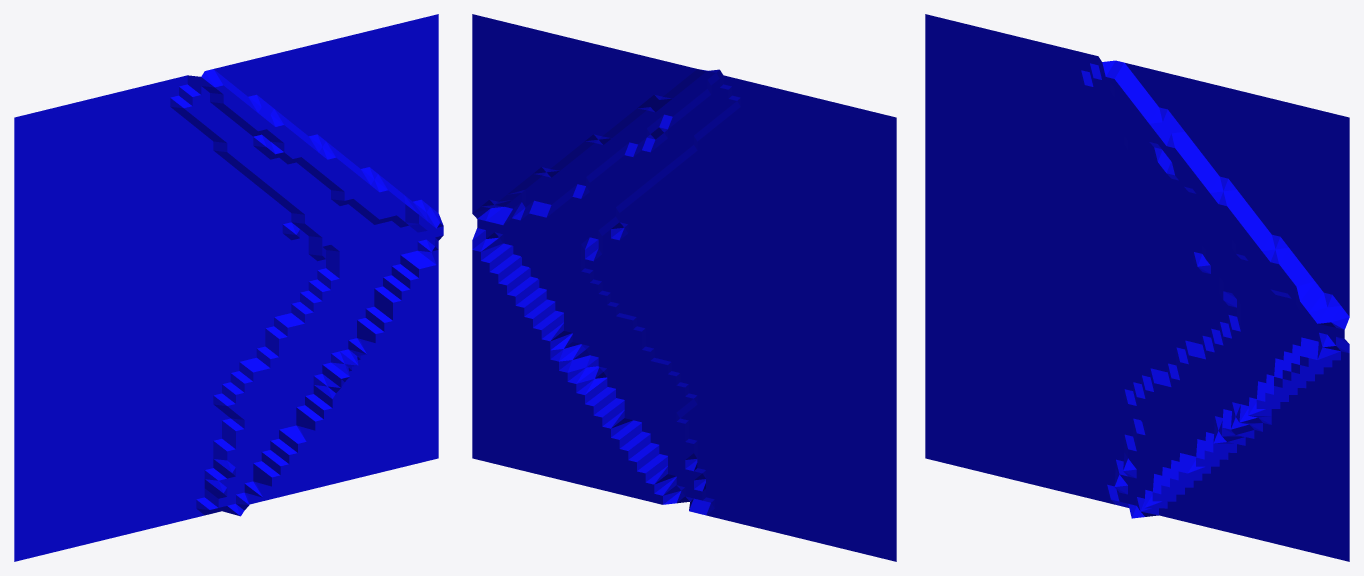
The model's file is fill.gltf.
3 renders of one model, left to right at view 1: azimuth 30°, elevation 25°; view 2: azimuth 150°, elevation 25°; view 3: azimuth 330°, elevation 25°, orthographic.
Parts seen in each view (by area): view 1: Node; view 2: Node; view 3: Node.
Part boxes in pixels (left/top/right/bottom): Node: left=14, top=14, right=443, bottom=561; Node: left=472, top=14, right=896, bottom=561; Node: left=925, top=14, right=1349, bottom=561.
Size of the model in its own units: 49 by 49 by 3.
